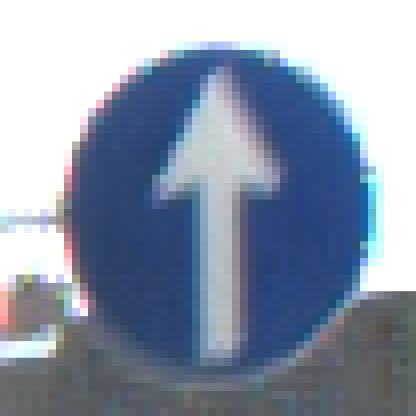straight: (48, 41, 376, 382)
